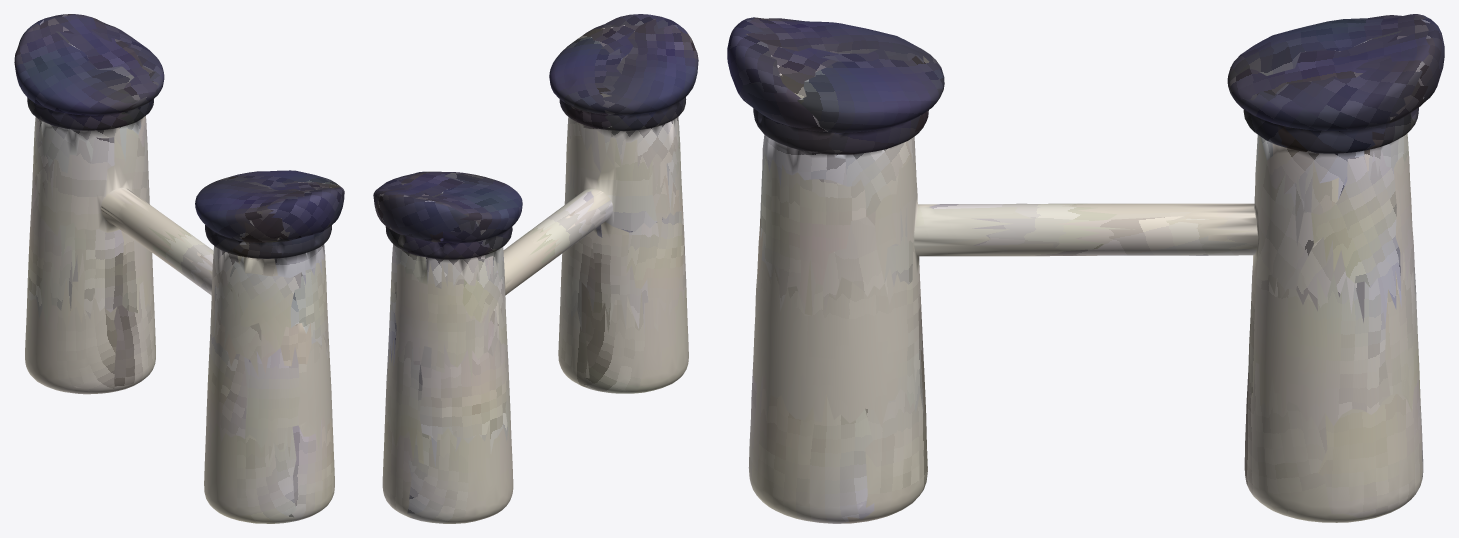
Rendered from JP_사물_s2_sm_gate.glb.
The picture shows the model from 3 angles, left to right: view 1: azimuth 30°, elevation 25°; view 2: azimuth 150°, elevation 25°; view 3: azimuth 270°, elevation 25°; orthographic projection. The views are drawn at different scales.
Parts seen in each view (by area): view 1: tripo_node_45cae361-6bc9-4b81-8b1a-ea0fec309330; view 2: tripo_node_45cae361-6bc9-4b81-8b1a-ea0fec309330; view 3: tripo_node_45cae361-6bc9-4b81-8b1a-ea0fec309330.
Part boxes in pixels (bbox=[...]): tripo_node_45cae361-6bc9-4b81-8b1a-ea0fec309330: bbox=[14, 14, 344, 523]; tripo_node_45cae361-6bc9-4b81-8b1a-ea0fec309330: bbox=[373, 14, 698, 523]; tripo_node_45cae361-6bc9-4b81-8b1a-ea0fec309330: bbox=[727, 14, 1444, 523].
Size of the model in its own units: 0.2918 by 0.7052 by 1.
Materials: 1 (1 with a texture image).
